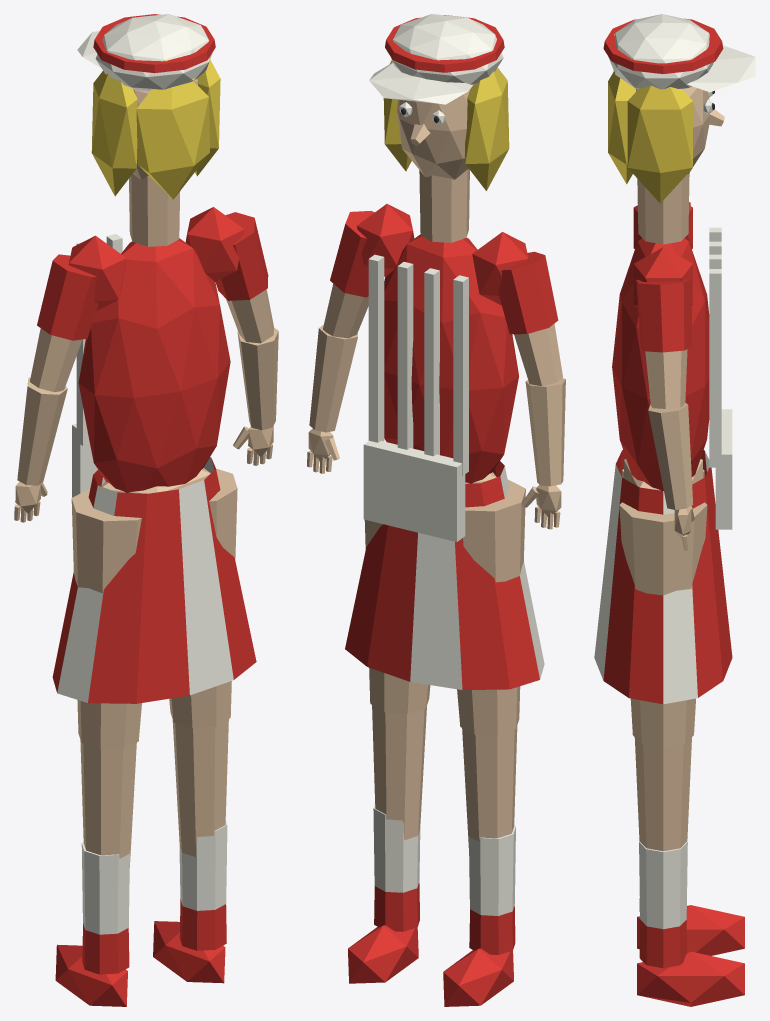
The model's file is OutfitKioskLady.fbx.
The picture shows the model from 3 angles, left to right: view 1: azimuth 30°, elevation 25°; view 2: azimuth 150°, elevation 25°; view 3: azimuth 270°, elevation 25°; orthographic projection. The views are drawn at different scales.
Visible parts, largest first — view 1: Torso, SkirtPanel.002, ThighLeft, SkirtPanel.003, SkirtPanel.001, HairBack, CalfRight, CalfLeft, HatCrown, HairSide.001, ThighRight, SkirtPanel (+22 smaller); view 2: Torso, WaistApron, ThighLeft, SkirtPanel.009, SkirtPanel.010, CalfRight, SkirtPanel.008, CalfLeft, HatCrown, Face, HairSide.001, SleeveLeft (+26 smaller); view 3: Torso, ThighRight, HairSide, CalfRight, HatCrown, FootRight, SkirtPanel.005, SkirtPanel.004, SleeveRight, Sock, SkirtPanel.007, SkirtPanel.006 (+17 smaller).
Part boxes in pixels (<box>): Torso: <box>78,238,230,492</box>; SkirtPanel.002: <box>136,489,189,703</box>; ThighLeft: <box>71,489,141,749</box>; SkirtPanel.003: <box>179,480,233,695</box>; SkirtPanel.001: <box>88,492,147,703</box>; HairBack: <box>136,81,209,199</box>; CalfRight: <box>172,719,228,856</box>; CalfLeft: <box>80,740,136,867</box>; HatCrown: <box>95,14,212,90</box>; HairSide.001: <box>91,71,137,196</box>; ThighRight: <box>169,468,237,728</box>; SkirtPanel: <box>57,485,117,702</box>; Torso: <box>384,234,518,483</box>; WaistApron: <box>363,440,465,541</box>; ThighLeft: <box>457,479,525,734</box>; SkirtPanel.009: <box>410,532,462,689</box>; SkirtPanel.010: <box>455,483,509,690</box>; CalfRight: <box>372,705,426,840</box>; SkirtPanel.008: <box>367,525,417,681</box>; CalfLeft: <box>462,726,517,847</box>; HatCrown: <box>391,14,503,84</box>; Face: <box>397,90,469,179</box>; HairSide.001: <box>465,67,509,190</box>; SleeveLeft: <box>498,251,558,334</box>; Torso: <box>612,238,709,490</box>; ThighRight: <box>619,502,707,747</box>; HairSide: <box>627,85,692,203</box>; CalfRight: <box>634,737,691,851</box>; HatCrown: <box>608,14,713,89</box>; FootRight: <box>637,951,744,1006</box>; SkirtPanel.005: <box>629,487,663,704</box>; SkirtPanel.004: <box>603,477,639,697</box>; SleeveRight: <box>636,278,691,352</box>; Sock: <box>639,841,687,929</box>; SkirtPanel.007: <box>691,477,723,697</box>; SkirtPanel.006: <box>663,491,697,704</box>.
Bounding box in the file's own units: 0.4812 × 1.75 × 0.2663.
